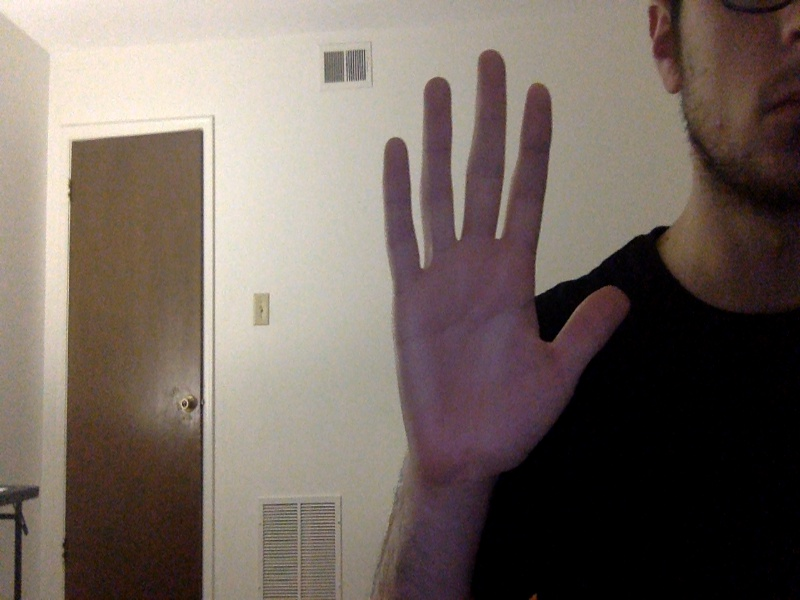5-hand: (383, 50, 630, 480)
